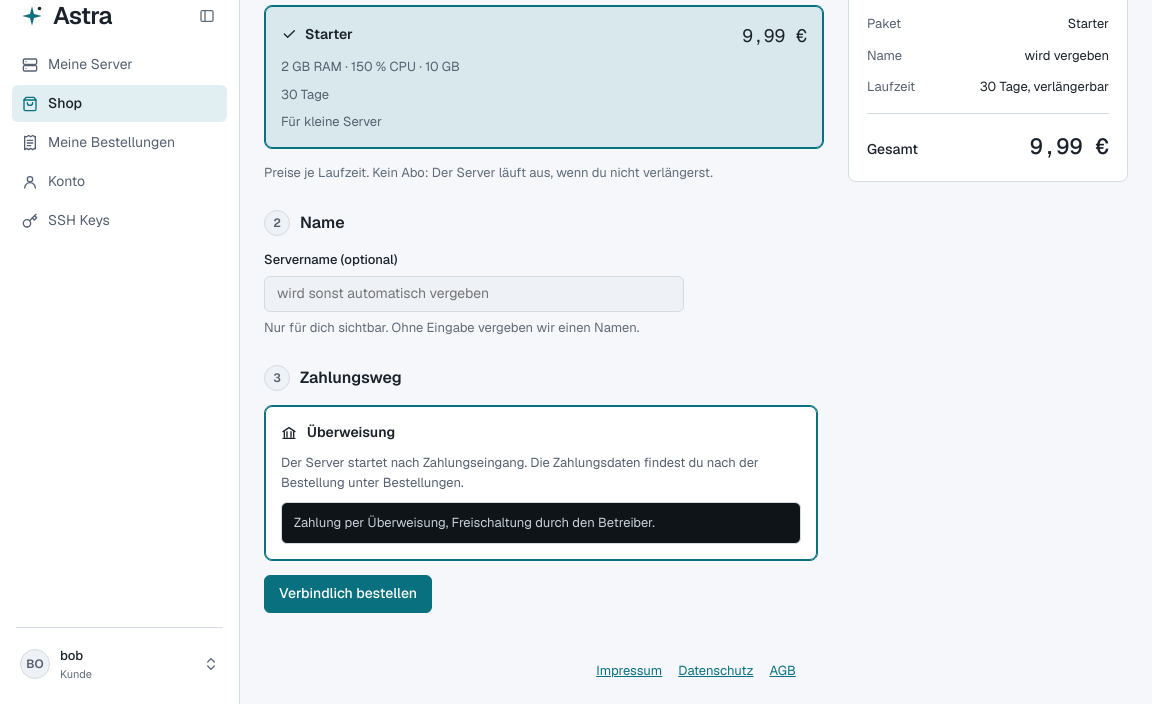
it: ShopPage › meldet fehlenden Platz bei bezahlter Bereitstellung
(page scrolled)
Click the button "Verbindlich bestellen".
click(348, 594)  # box [264,574,432,612]
(page scrolled)
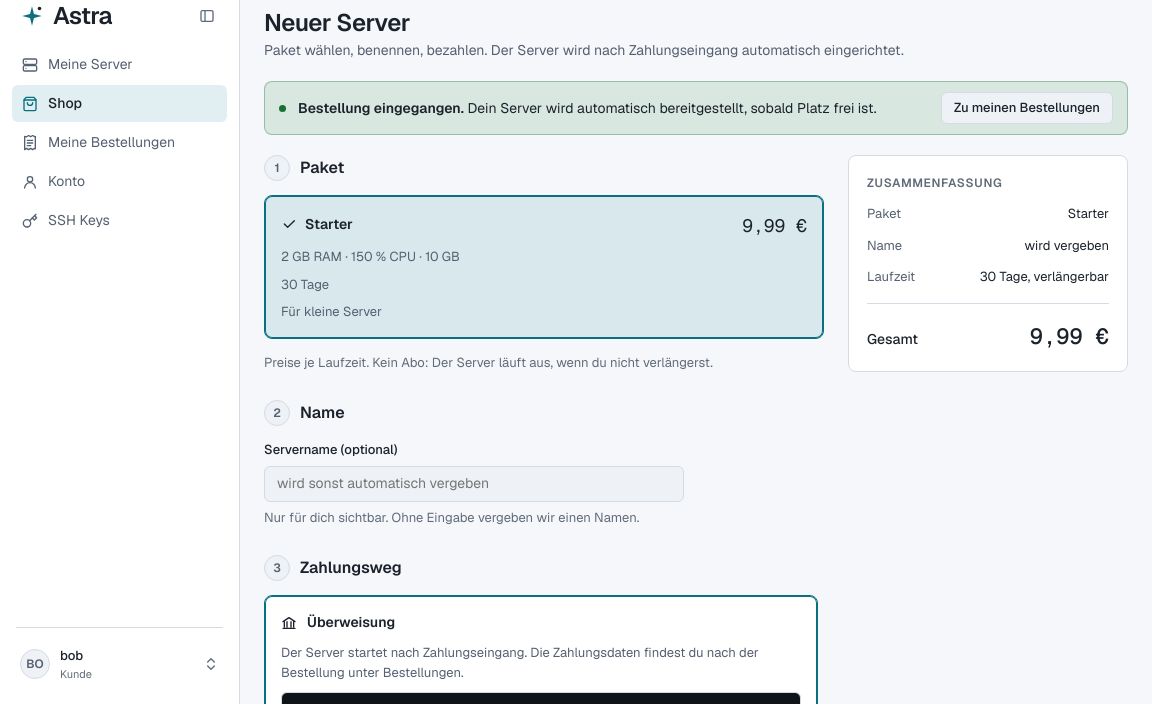
Check: the text "sobald Platz frei ist" is shown, box [467,98,877,116]
